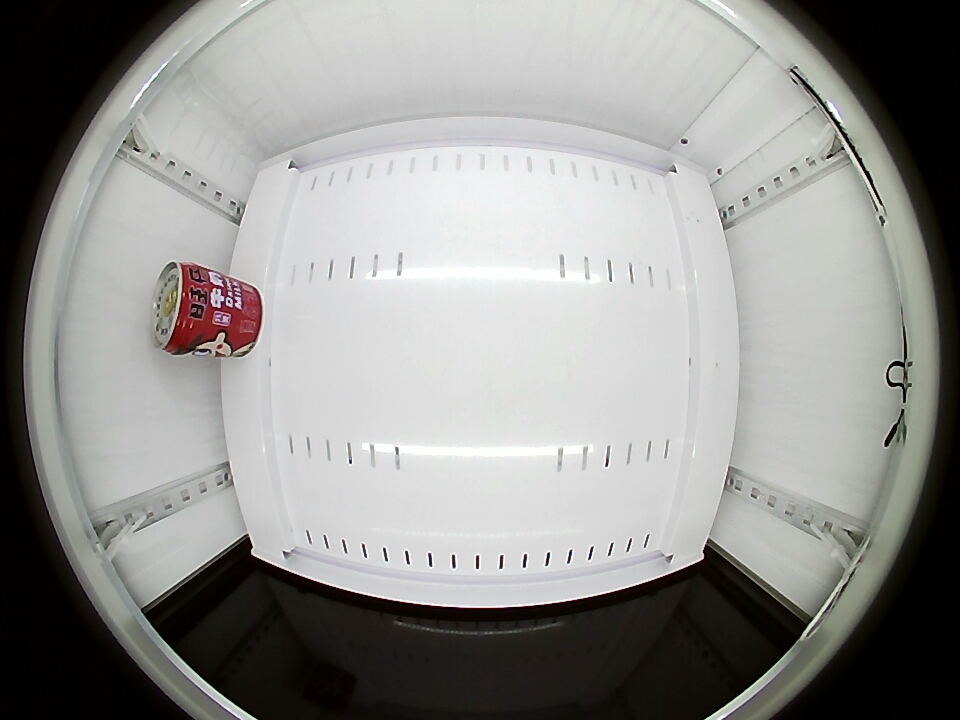wangzainiunai: (151, 260, 216, 357)
